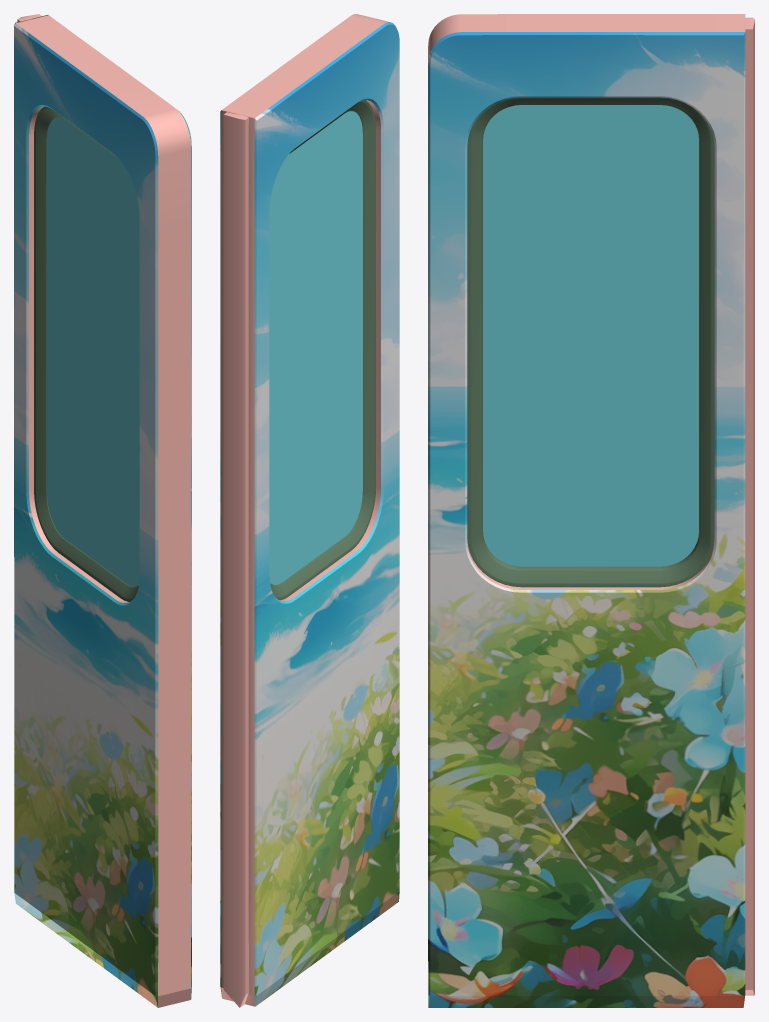
File: g_subway_sidedoors_l_mod.fbx
3 views of the same model, side by side, from view 1: azimuth 30°, elevation 25°; view 2: azimuth 150°, elevation 25°; view 3: azimuth 270°, elevation 25° (orthographic). The views are drawn at different scales.
Parts seen in each view (by area): view 1: g_subway_sidedoors_l_mod; view 2: g_subway_sidedoors_l_mod; view 3: g_subway_sidedoors_l_mod.
Boxes of the visible parts, x1,y1,x2,y2 form: g_subway_sidedoors_l_mod: (14, 14, 191, 1007); g_subway_sidedoors_l_mod: (220, 14, 399, 1007); g_subway_sidedoors_l_mod: (428, 14, 754, 1007).
Bounding box in the file's own units: 7.05 × 49.24 × 162.
